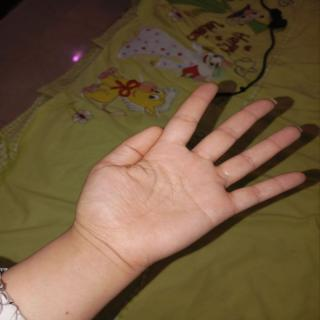SHEEN: (65, 75, 320, 272)
